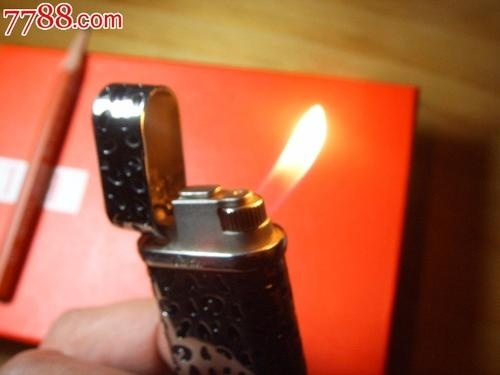fire: (262, 99, 330, 203)
